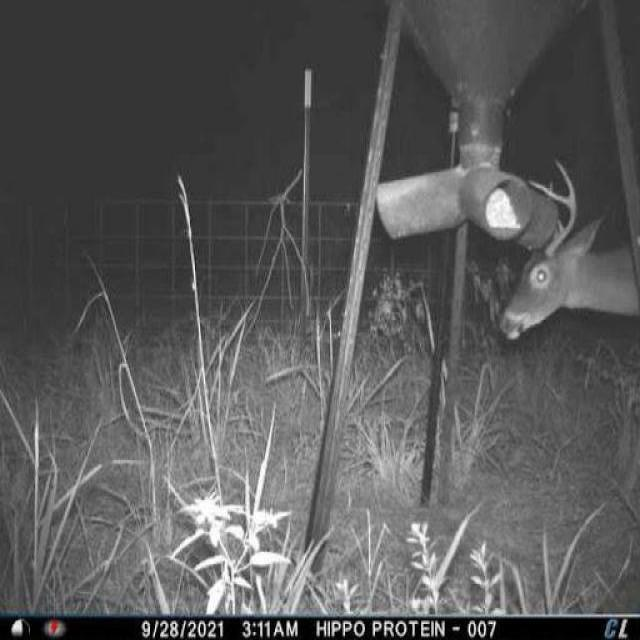deer: (496, 147, 640, 356)
